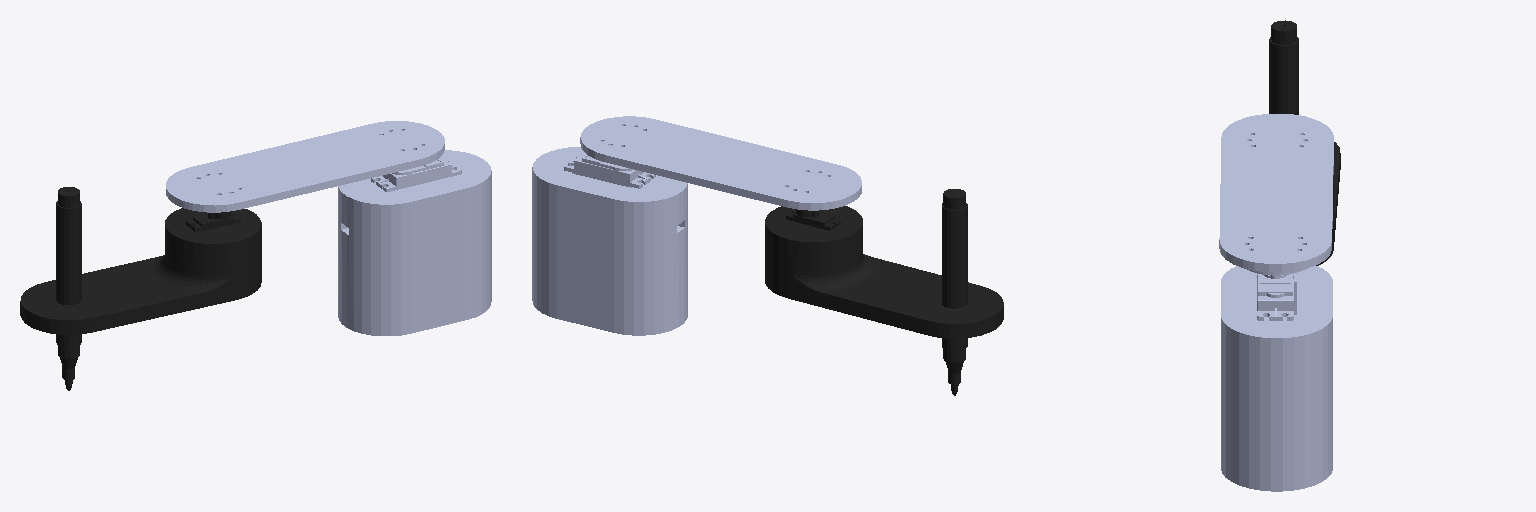
The robot description file, URDF, robot "scara_bot":
<?xml version="1.0" encoding="utf-8"?>
<!-- This URDF was automatically created by SolidWorks to URDF Exporter! Originally created by [author] ([email redacted]) 
     Commit Version: 1.6.0-4-g7f85cfe  Build Version: 1.6.7995.38578
     For more information, please see http://wiki.ros.org/sw_urdf_exporter -->
<robot
  name="scara_bot">
  <link
    name="base_link">
    <inertial>
      <origin
        xyz="0.00010268 -8.6243E-06 0.043702"
        rpy="0 0 0" />
      <mass
        value="0.4514" />
      <inertia
        ixx="0.00041365"
        ixy="3.8942E-10"
        ixz="-1.292E-06"
        iyy="0.00060962"
        iyz="1.3789E-13"
        izz="0.00044019" />
    </inertial>
    <visual>
      <origin
        xyz="0 0 0"
        rpy="0 0 0" />
      <geometry>
        <mesh
          filename="package://scara_bot/meshes/base_link.dae" />
      </geometry>
      <material
        name="">
        <color
          rgba="0.79216 0.81961 0.93333 1" />
      </material>
    </visual>
    <collision>
      <origin
        xyz="0 0 0"
        rpy="0 0 0" />
      <geometry>
        <mesh
          filename="package://scara_bot/meshes/base_link.dae" />
      </geometry>
    </collision>
  </link>
  <link
    name="Link_1">
    <inertial>
      <origin
        xyz="-0.068163 0.00052554 0.0067254"
        rpy="0 0 0" />
      <mass
        value="0.062421" />
      <inertia
        ixx="1.5824E-05"
        ixy="9.7386E-07"
        ixz="-6.2302E-21"
        iyy="0.00014062"
        iyz="-1.1003E-21"
        izz="0.00015619" />
    </inertial>
    <visual>
      <origin
        xyz="0 0 0"
        rpy="0 0 0" />
      <geometry>
        <mesh
          filename="package://scara_bot/meshes/Link_1.dae" />
      </geometry>
      <material
        name="">
        <color
          rgba="0.79216 0.81961 0.93333 1" />
      </material>
    </visual>
    <collision>
      <origin
        xyz="0 0 0"
        rpy="0 0 0" />
      <geometry>
        <mesh
          filename="package://scara_bot/meshes/Link_1.dae" />
      </geometry>
    </collision>
  </link>
  <joint
    name="Link_1_joint"
    type="revolute">
    <origin
      xyz="-0.0093 -0.00065 0.10805"
      rpy="0 0 0" />
    <parent
      link="base_link" />
    <child
      link="Link_1" />
    <axis
      xyz="0 0 1" />
    <limit
      lower="-0.785"
      upper="0.785"
      effort="200"
      velocity="1.5" />
  </joint>
  <link
    name="Link_2">
    <inertial>
      <origin
        xyz="-0.03911 0.0011398 -0.039802"
        rpy="0 0 0" />
      <mass
        value="0.19711" />
      <inertia
        ixx="9.3452E-05"
        ixy="8.3609E-06"
        ixz="-3.9827E-05"
        iyy="0.00033017"
        iyz="1.4051E-06"
        izz="0.00032615" />
    </inertial>
    <visual>
      <origin
        xyz="0 0 0"
        rpy="0 0 0" />
      <geometry>
        <mesh
          filename="package://scara_bot/meshes/Link_2.dae" />
      </geometry>
      <material
        name="">
        <color
          rgba="0.18039 0.18039 0.18039 1" />
      </material>
    </visual>
    <collision>
      <origin
        xyz="0 0 0"
        rpy="0 0 0" />
      <geometry>
        <mesh
          filename="package://scara_bot/meshes/Link_2.dae" />
      </geometry>
    </collision>
  </link>
  <joint
    name="Link_2_joint"
    type="revolute">
    <origin
      xyz="-0.12922 0.0010143 0"
      rpy="0 0 0" />
    <parent
      link="Link_1" />
    <child
      link="Link_2" />
    <axis
      xyz="0 0 1" />
    <limit
      lower="-1.57"
      upper="1.57"
      effort="200"
      velocity="1.5" />
  </joint>
</robot>

--- What the picture shows (computed from the rendered views, not written in the file) ---
The picture shows the robot from 3 angles, left to right: view 1: azimuth 30°, elevation 25°; view 2: azimuth 150°, elevation 25°; view 3: azimuth 270°, elevation 25°; orthographic projection.
Model scara_bot with 3 links and 2 joints (2 revolute), rooted at base_link, posed all joints at 0.
Links seen in each view (by area): view 1: base_link, Link_2, Link_1; view 2: base_link, Link_2, Link_1; view 3: base_link, Link_1, Link_2.
Link boxes in pixels (x1,y1,x2,y2): base_link: [338, 150, 491, 335]; Link_2: [20, 187, 261, 390]; Link_1: [166, 121, 444, 212]; base_link: [532, 147, 687, 335]; Link_2: [765, 189, 1003, 395]; Link_1: [580, 116, 861, 210]; base_link: [1221, 266, 1332, 491]; Link_1: [1219, 114, 1333, 275]; Link_2: [1269, 20, 1340, 265].
Size in the robot's own frame: 0.325 by 0.0645 by 0.1363 metres.
Meshes: 3 distinct files referenced, 3 mesh visuals loaded (3 Collada DAE).